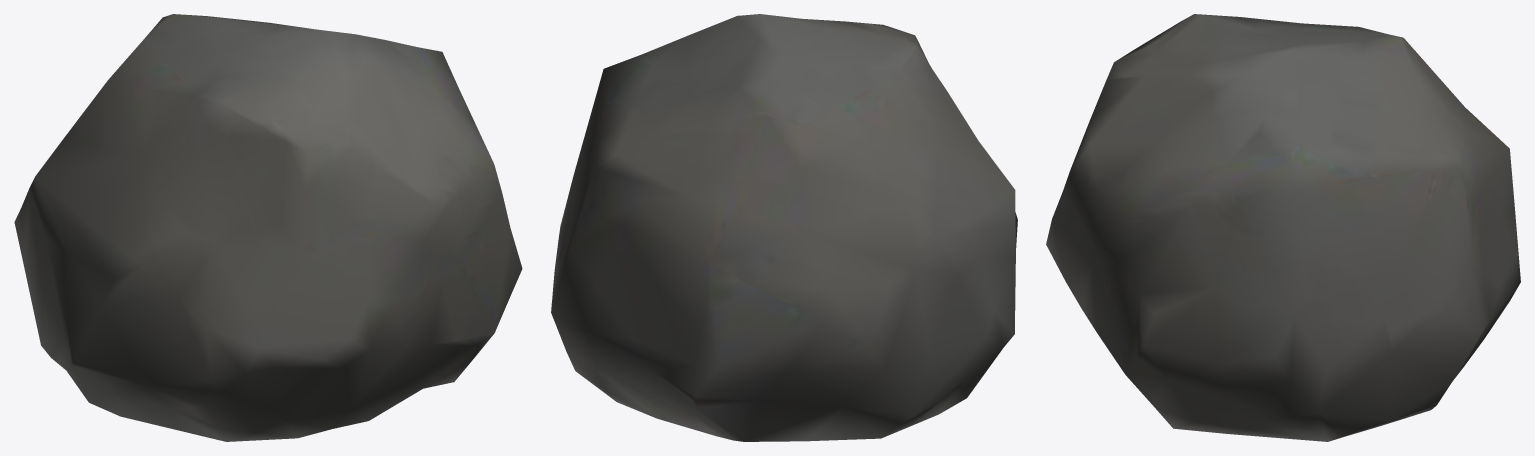
Rendered from bomber_weapon.glb.
The picture shows the model from 3 angles, left to right: view 1: azimuth 30°, elevation 25°; view 2: azimuth 150°, elevation 25°; view 3: azimuth 270°, elevation 25°; orthographic projection. The views are drawn at different scales.
Parts seen in each view (by area): view 1: Weapon; view 2: Weapon; view 3: Weapon.
Part boxes in pixels (<box>): Weapon: <box>14,14,522,441</box>; Weapon: <box>551,14,1017,441</box>; Weapon: <box>1046,14,1520,441</box>.
Size of the model in its own units: 0.2837 by 0.2109 by 0.273.
1 material, 1 textured.
